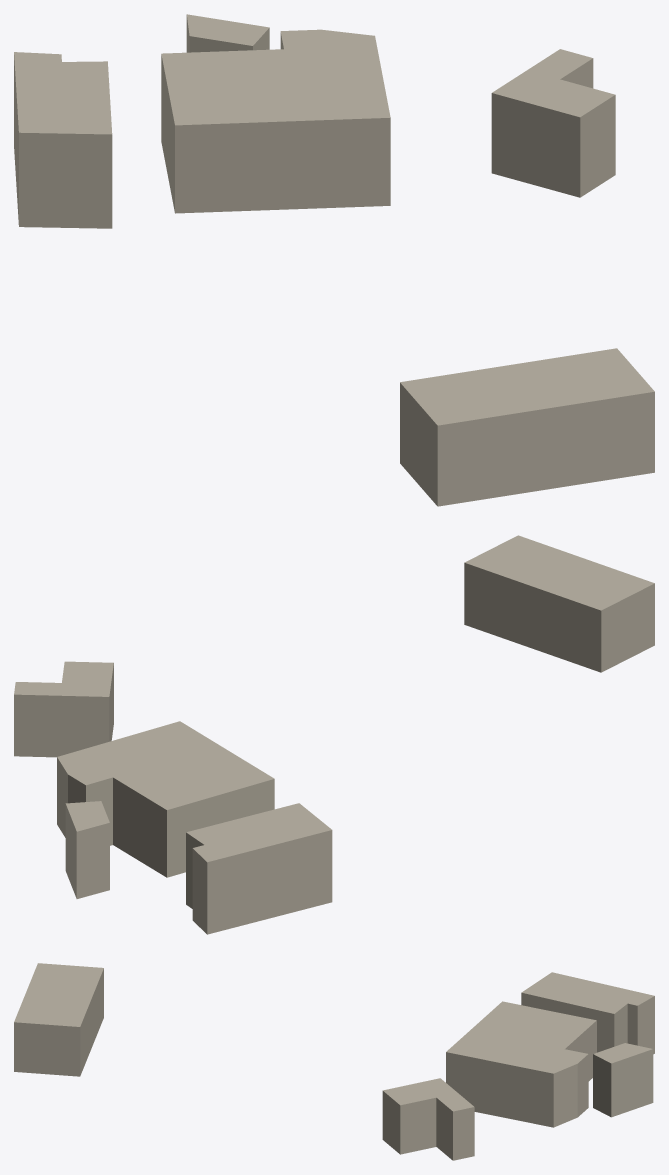
Rendered from kalkara_64_23_collision.glb.
3 renders of one model, top to bottom at view 1: azimuth 30°, elevation 25°; view 2: azimuth 150°, elevation 25°; view 3: azimuth 270°, elevation 25°, orthographic. The views are drawn at different scales.
Parts seen in each view (by area): view 1: geometry_0; view 2: geometry_0; view 3: geometry_0.
Boxes of the visible parts, box(x1,y1,x2,y2) form: geometry_0: box(14, 14, 654, 506); geometry_0: box(14, 535, 654, 934); geometry_0: box(14, 963, 654, 1160).
Bounding box in the file's own units: 70.2 × 14.75 × 129.
